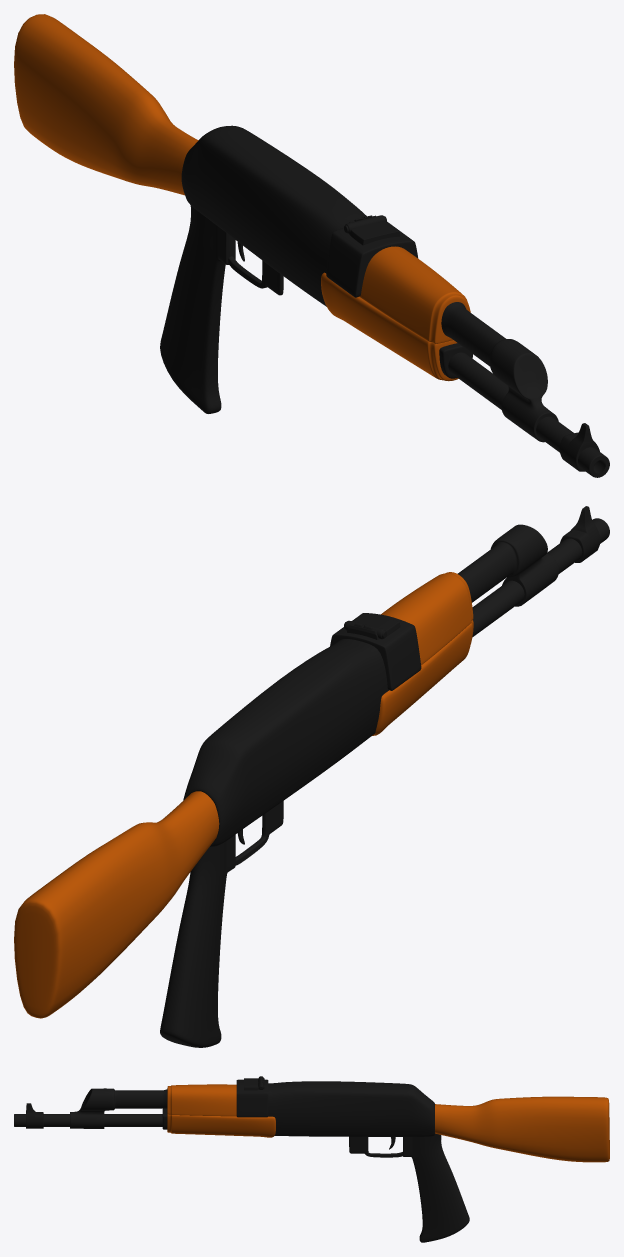
3 views of the same model, one above another, from view 1: azimuth 30°, elevation 25°; view 2: azimuth 150°, elevation 25°; view 3: azimuth 270°, elevation 25° (orthographic). The views are drawn at different scales.
Visible parts, largest first — view 1: AK; view 2: AK; view 3: AK.
Part boxes in pixels (<box>): AK: <box>14,14,609,477</box>; AK: <box>14,506,609,1047</box>; AK: <box>14,1076,609,1242</box>.
Bounding box in the file's own units: 6.17 × 27.28 × 91.07.
